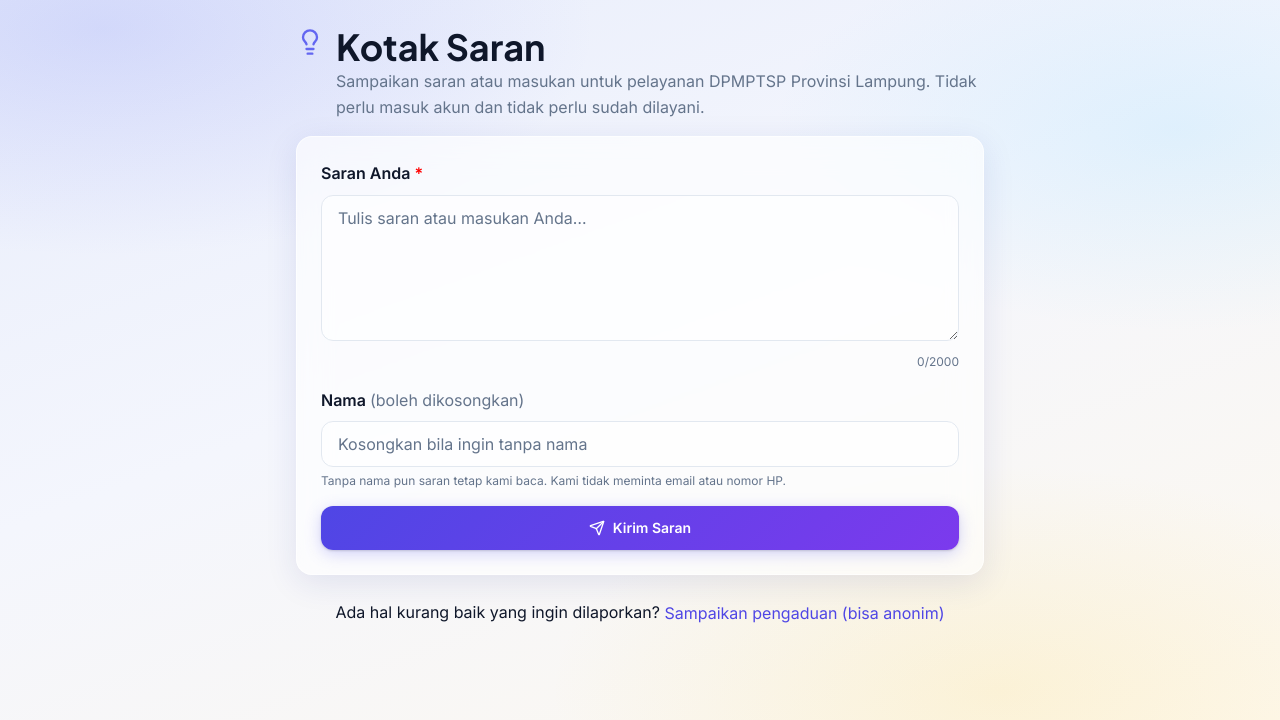
Test case: /saran (publik) › mengirim isi dan nama ke /api/saran lalu menampilkan ucapan terima kasih
The width and height of the screenshot is (1280, 720).
Type "  Tolong tambah kursi di ruang tunggu  " into the text box labelled "Saran Anda *" at (640, 268), box [321,195,959,341]
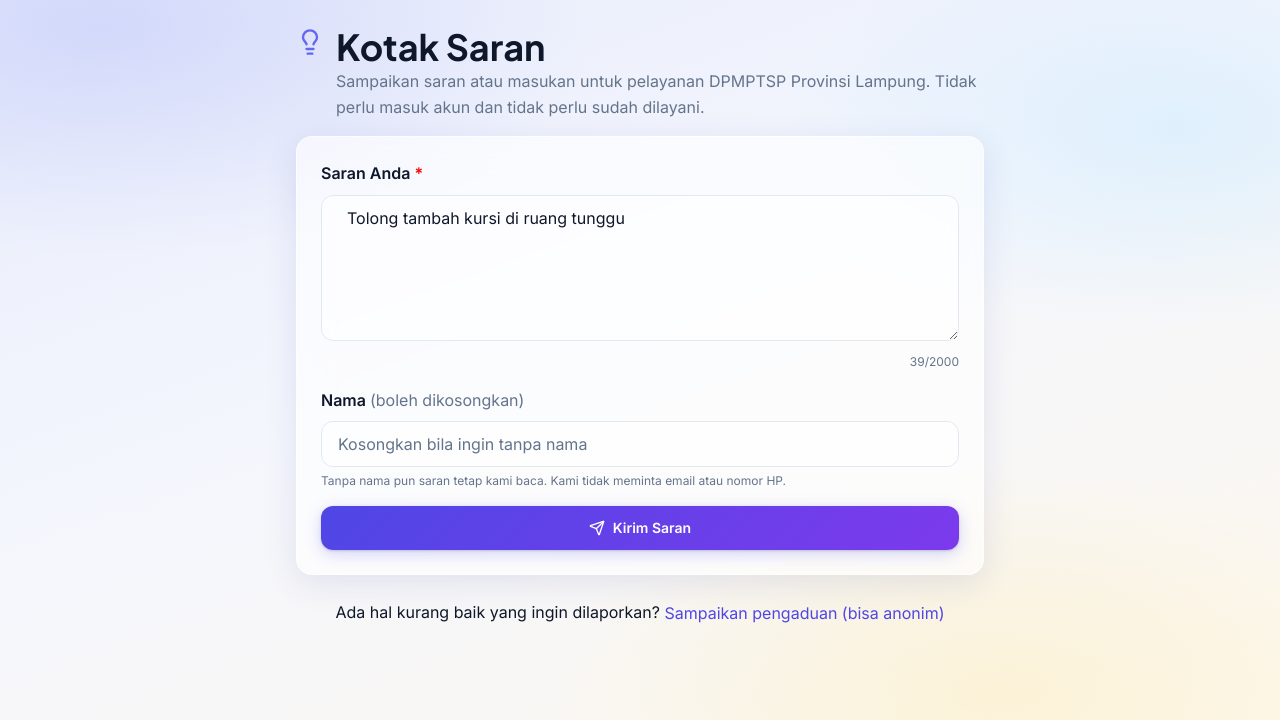
Type "Budi" into the field labelled "Nama (boleh dikosongkan)" at (640, 444), box [321,421,959,467]
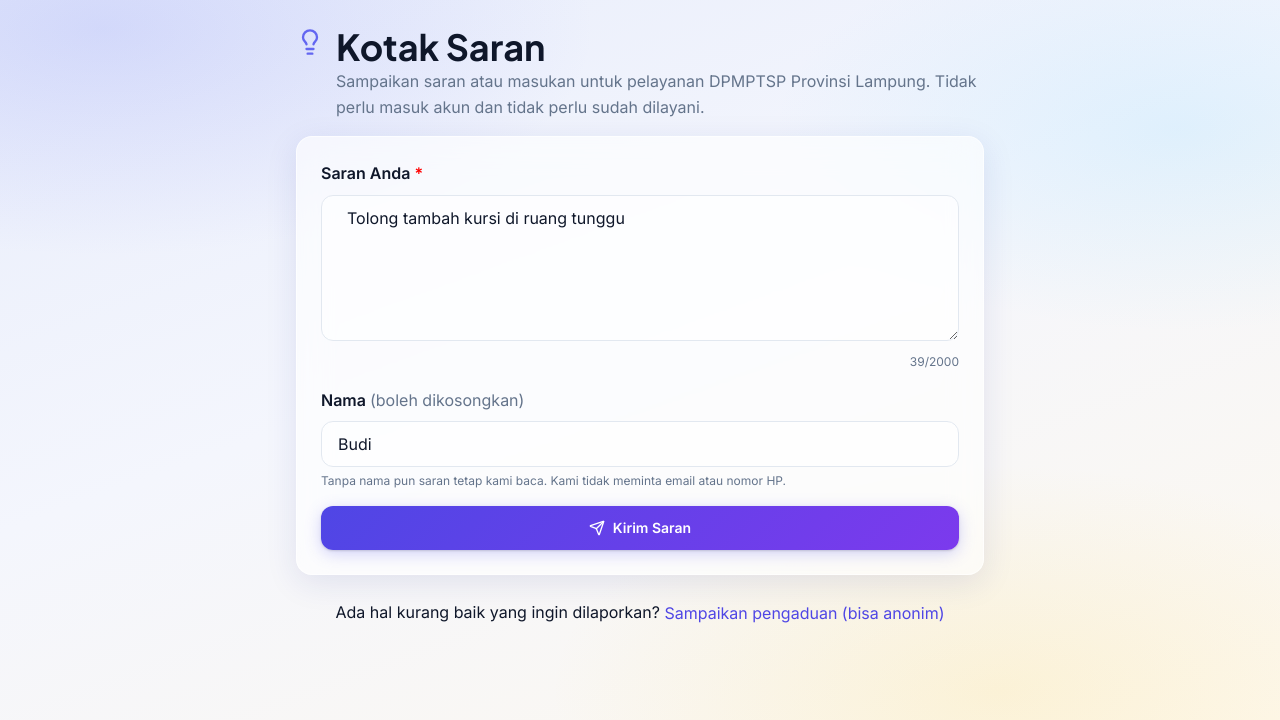
Click the button "Kirim Saran" at (640, 528), box [321,506,959,550]
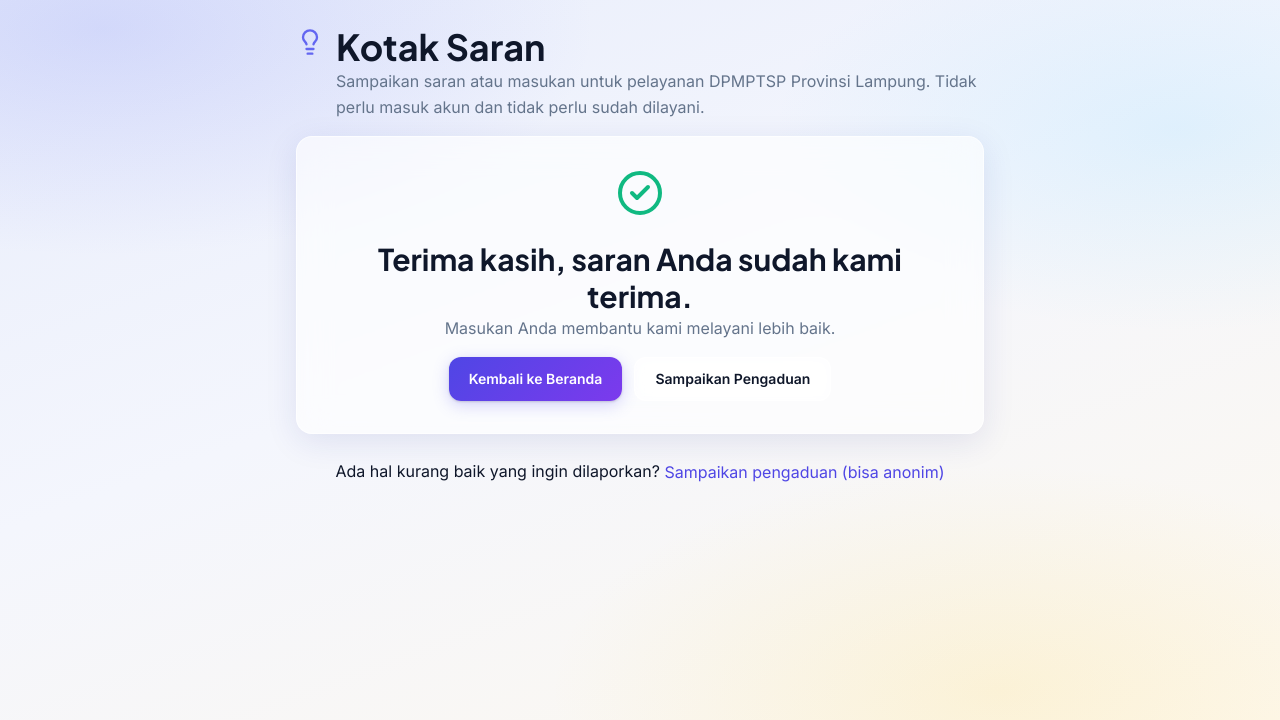
Check: the heading "Terima kasih, saran Anda sudah kami terima." is shown, box [378,240,902,315]
